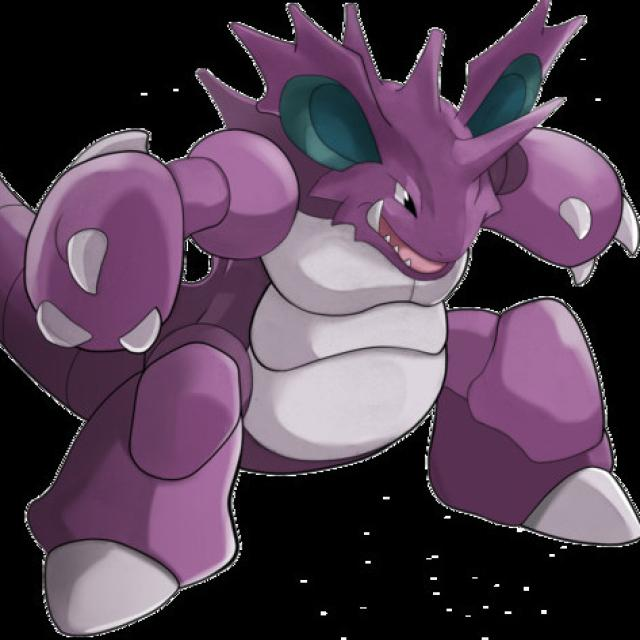Nidoking: (115, 6, 600, 522)
